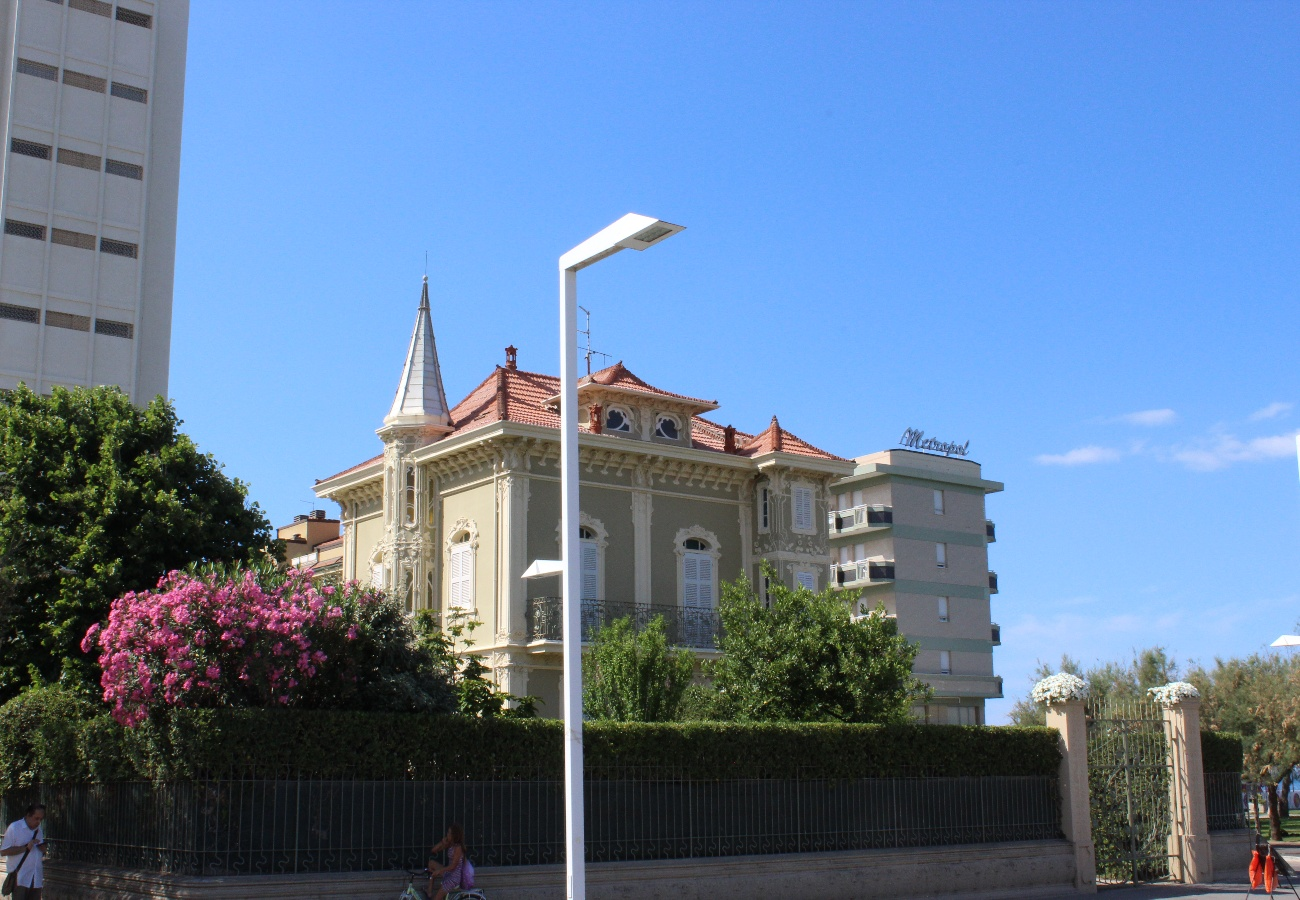Villino Ruggeri: (321, 274, 861, 805)
